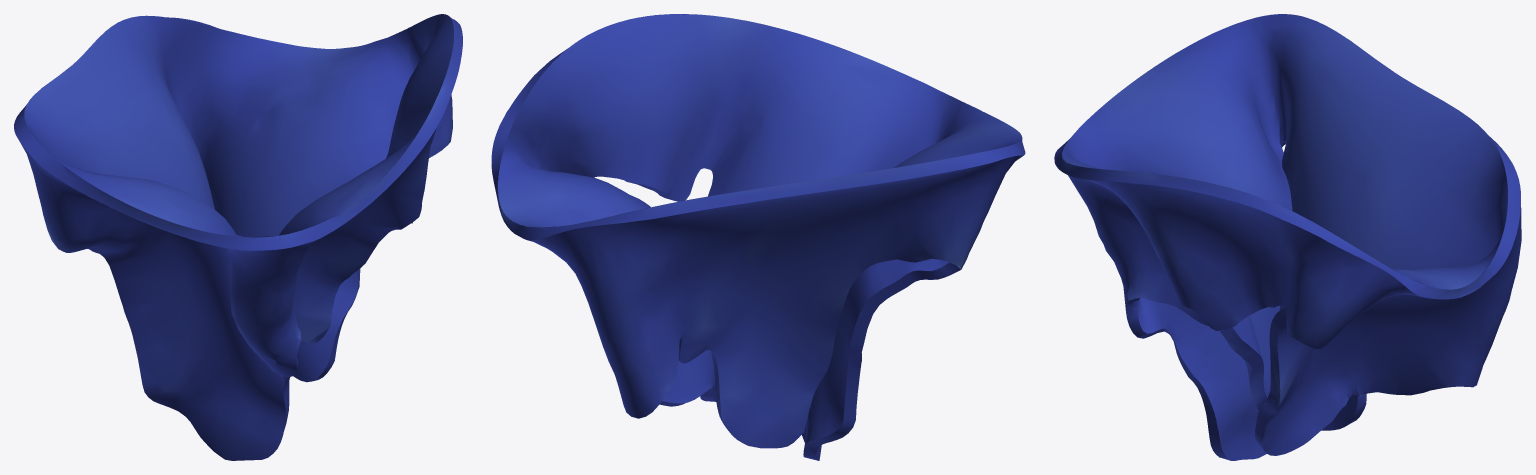
3 renders of one model, left to right at view 1: azimuth 30°, elevation 25°; view 2: azimuth 150°, elevation 25°; view 3: azimuth 270°, elevation 25°, orthographic. The views are drawn at different scales.
Visible parts, largest first — view 1: OCS14_maxS_5; view 2: OCS14_maxS_5; view 3: OCS14_maxS_5.
Boxes of the visible parts, left/top/right/bottom form: OCS14_maxS_5: left=14, top=14, right=462, bottom=460; OCS14_maxS_5: left=491, top=14, right=1025, bottom=460; OCS14_maxS_5: left=1054, top=14, right=1521, bottom=460.
Size of the model in its own units: 1.45 by 1.15 by 1.32.
